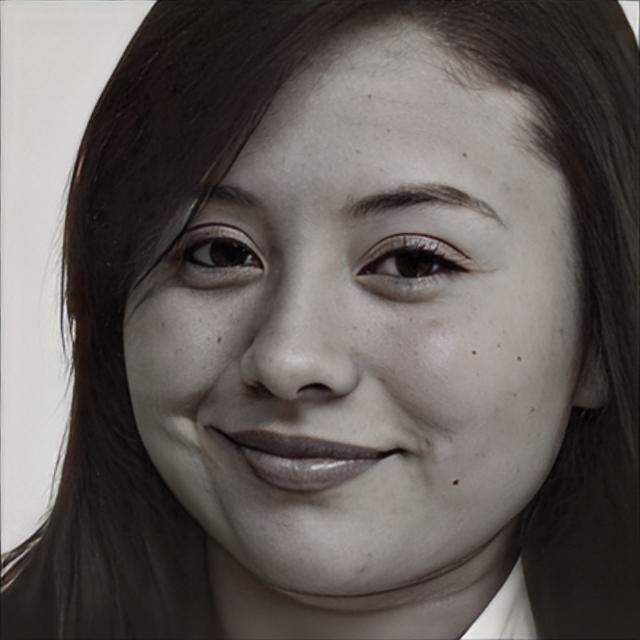content: (121, 0, 583, 600)
